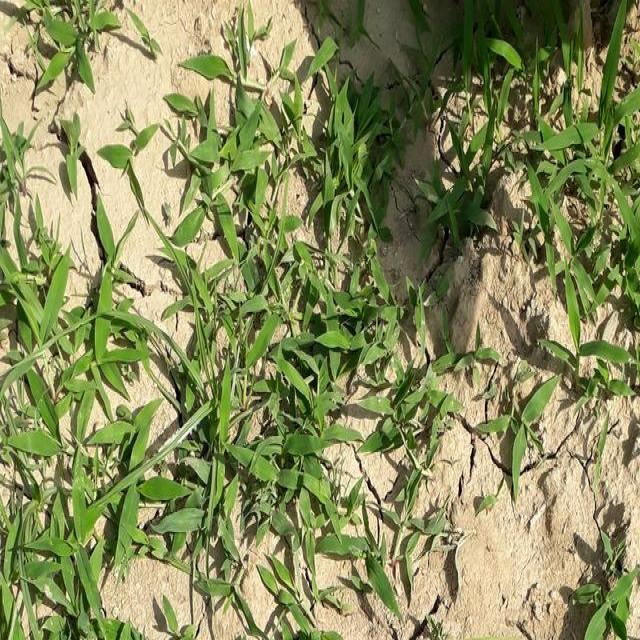weed: (166, 31, 398, 592), (465, 17, 640, 460), (6, 226, 156, 640)
